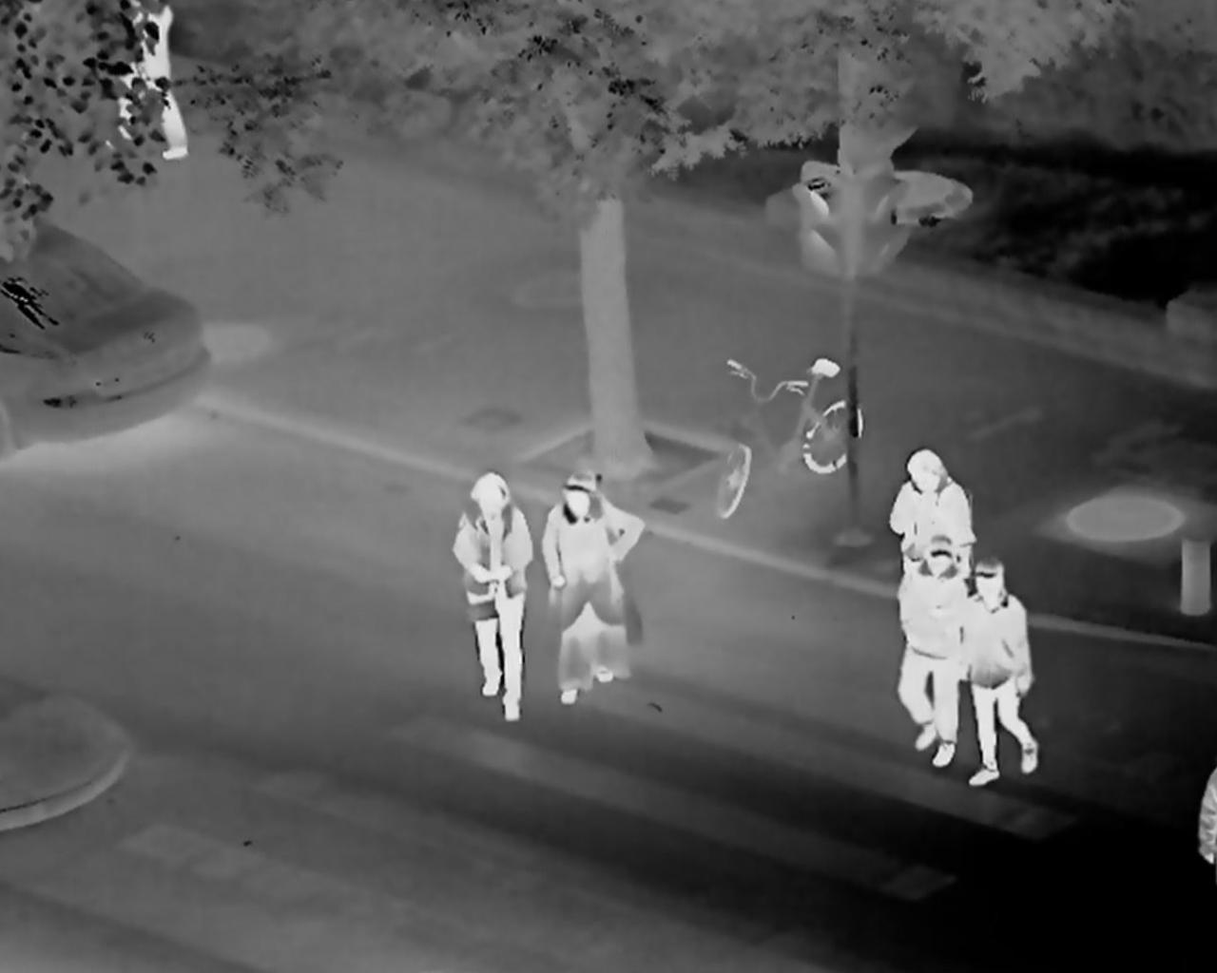person: (535, 470, 646, 712), (880, 448, 968, 682), (454, 463, 531, 719), (963, 557, 1046, 787), (897, 534, 966, 770)
